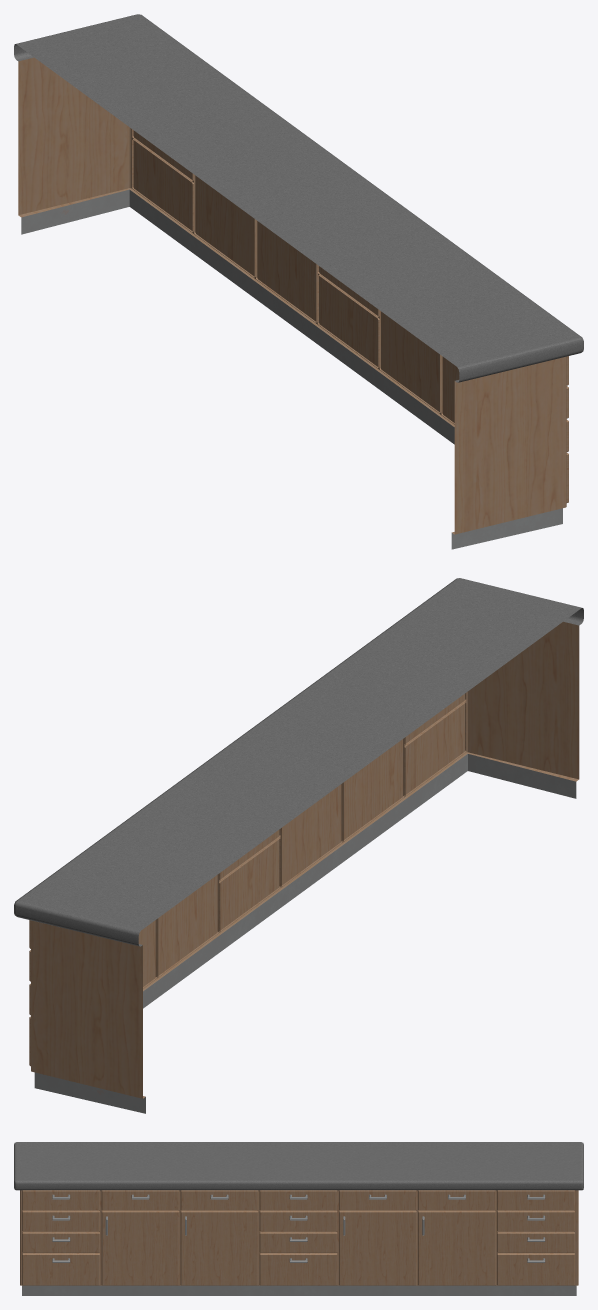
Rendered from KitchenCabinet.fbx.
The picture shows the model from 3 angles, top to bottom: view 1: azimuth 30°, elevation 25°; view 2: azimuth 150°, elevation 25°; view 3: azimuth 270°, elevation 25°; orthographic projection. The views are drawn at different scales.
Parts seen in each view (by area): view 1: KitchenCabinet_LOD0; view 2: KitchenCabinet_LOD0; view 3: KitchenCabinet_LOD0.
Boxes of the visible parts, left/top/right/bottom form: KitchenCabinet_LOD0: left=14, top=14, right=583, bottom=549; KitchenCabinet_LOD0: left=14, top=578, right=583, bottom=1113; KitchenCabinet_LOD0: left=14, top=1142, right=583, bottom=1295.
Size of what is drawn, in the model's own units: 0.8126 by 1.14 by 4.94.
Materials: 3 (3 with a texture image).
